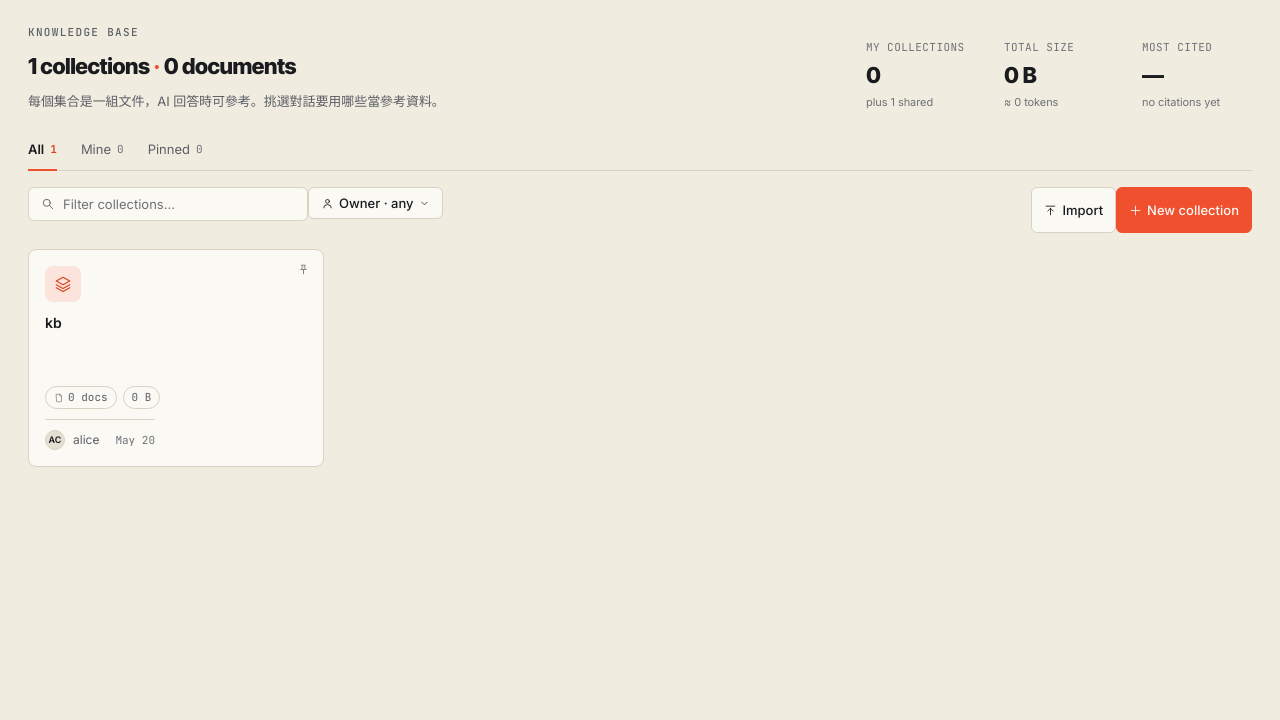
Test: KbCollectionsPage › disables the confirm Delete button while the collection delete is in flight (no double-submit)
Click the button with aria-label "Open kb": [63, 284] box left=28, top=249, right=324, bottom=467
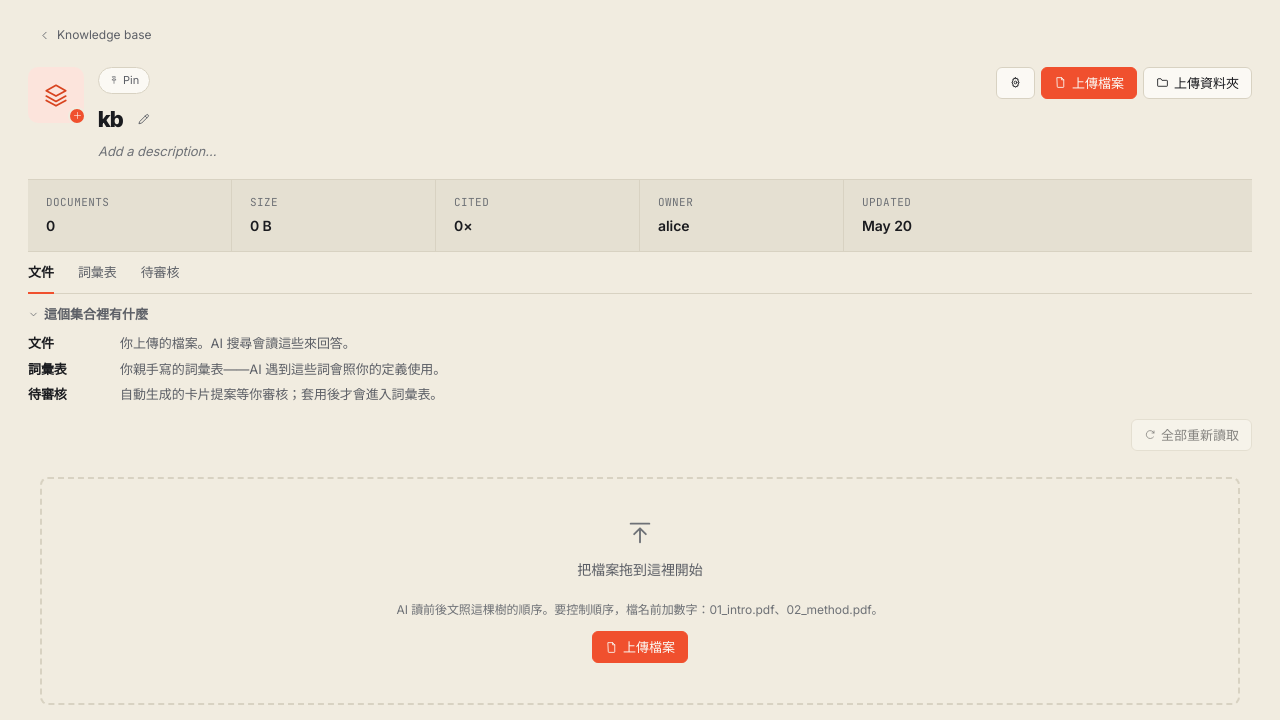
Click the button named "Collection settings": [1016, 83] box left=996, top=67, right=1035, bottom=99
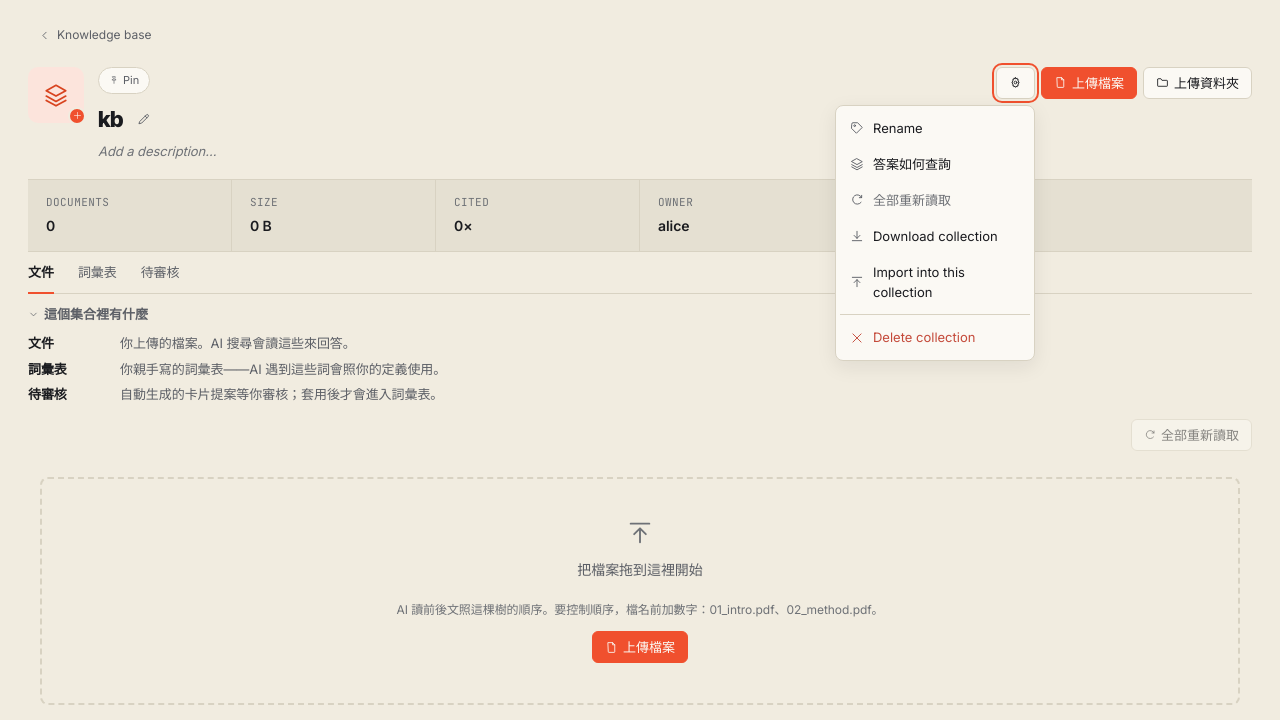
Click the menu item "Delete collection": [935, 337] box left=840, top=319, right=1030, bottom=356
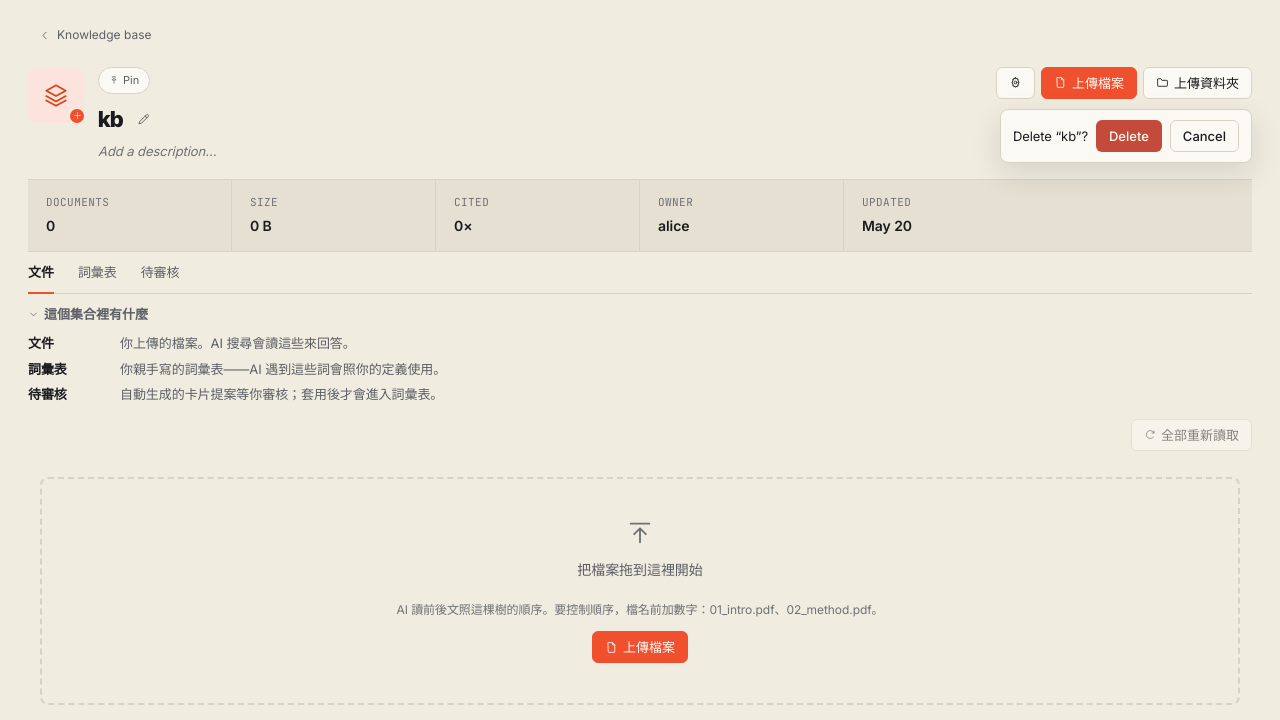
Click the button "Delete": [1129, 136] box left=1096, top=120, right=1162, bottom=152
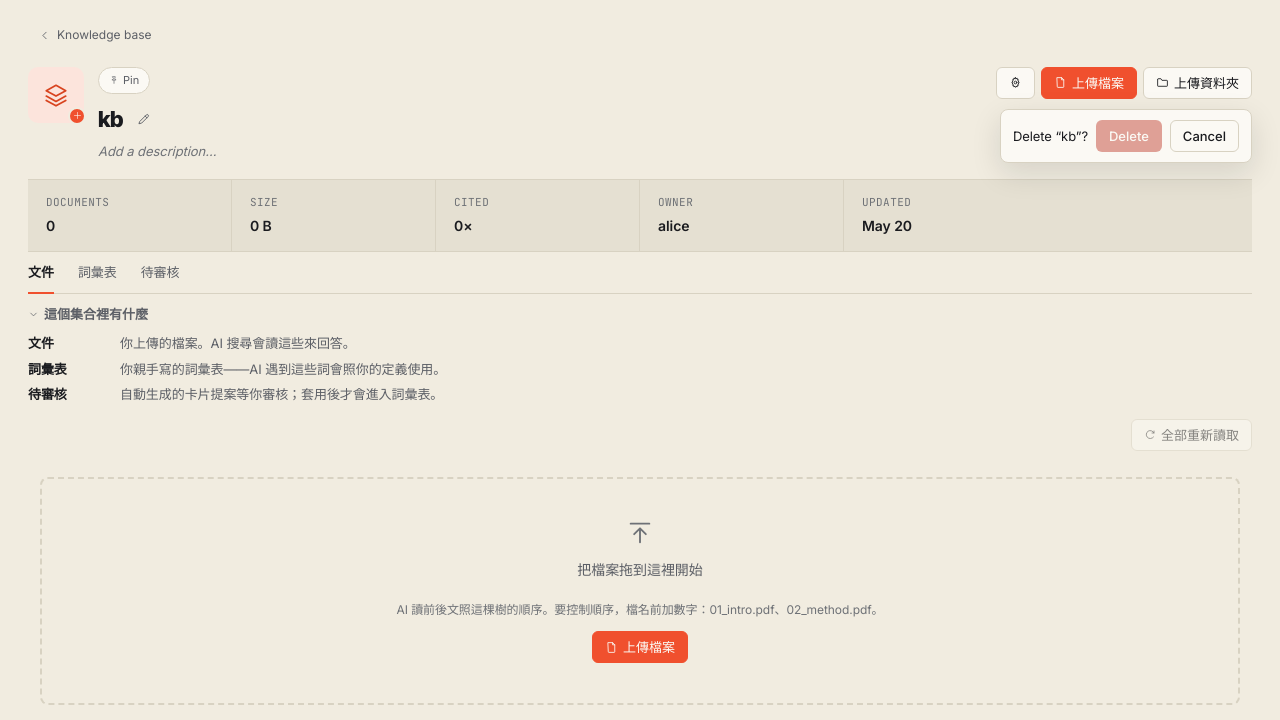
Result: the button "Delete" is disabled at left=1096, top=120, right=1162, bottom=152
